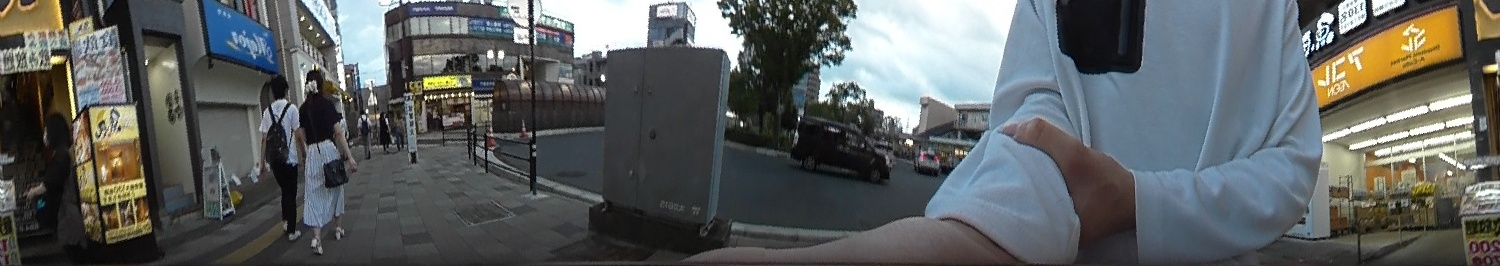difficult_person: (374, 106, 391, 149), (390, 106, 408, 146)
person: (298, 67, 350, 250), (260, 74, 308, 239), (353, 106, 374, 159)
